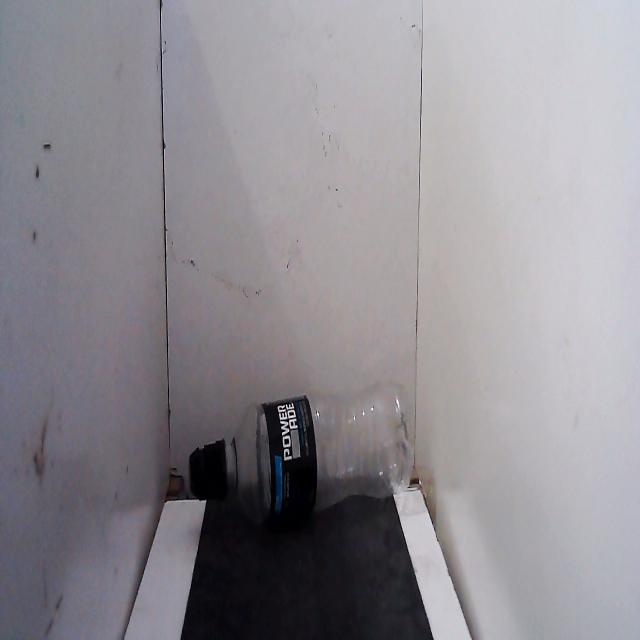plastico: (184, 376, 416, 525)
